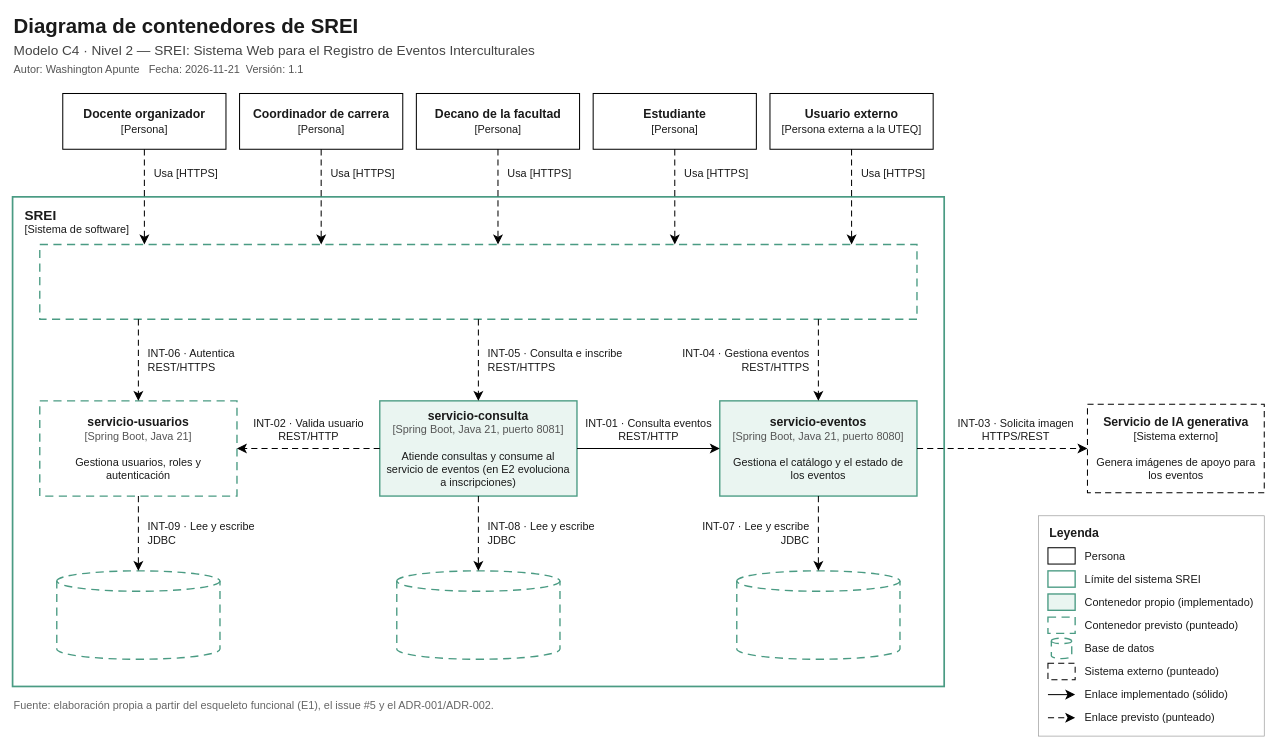
Some shapes in this 1276 by 748 pixel diagram are drawn without their labels. The centre of each missing label's shape, as x and y in pixels:
"Aplicación web [Angular 17] Interfaz para registrar, aprobar y consultar eventos" goes at (478,281).
"BD de eventos [PostgreSQL] Propia de servicio-eventos" goes at (818,615).
"BD de inscripciones [PostgreSQL] Propia de servicio-consulta" goes at (478,615).
"BD de usuarios [PostgreSQL] Propia de servicio-usuarios" goes at (138,615).
